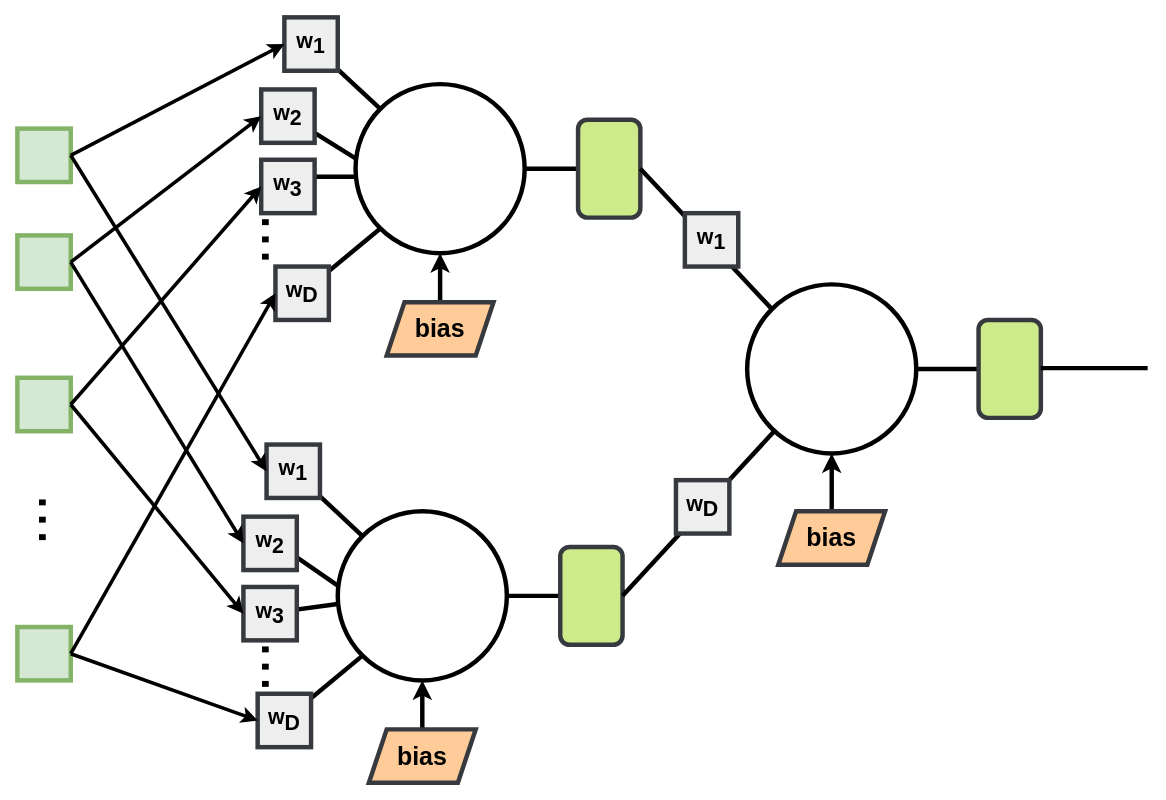
The diagram is 1166 pixels wide and 800 high, and some of its shapes have lost their labels. The shapes that lost their labels are listed below. From the top down, each one's centre as x and y in pixels, then its label:
At point (44, 155): "x 1".
At point (44, 262): "x 2".
At point (44, 404): "x 3".
At point (44, 653): "x D".
